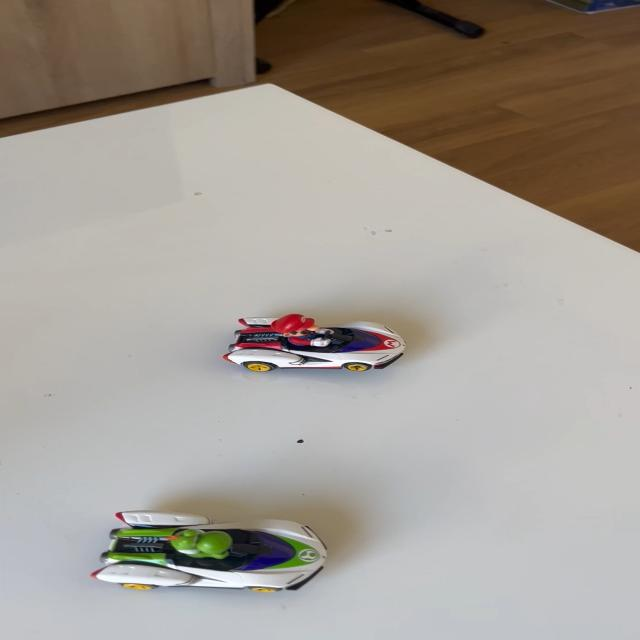mario: (205, 304, 422, 382)
yoshi: (79, 500, 345, 599)
